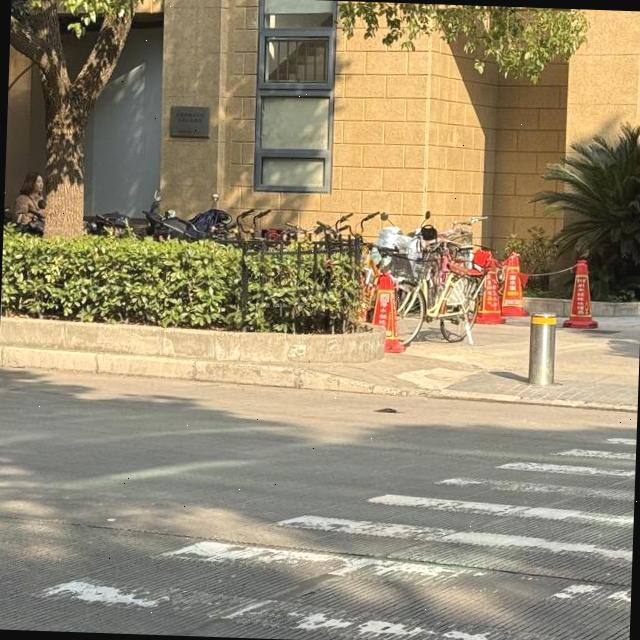curb: (0, 317, 383, 364), (0, 346, 390, 391), (418, 390, 636, 412), (524, 296, 569, 323), (590, 301, 640, 322)
